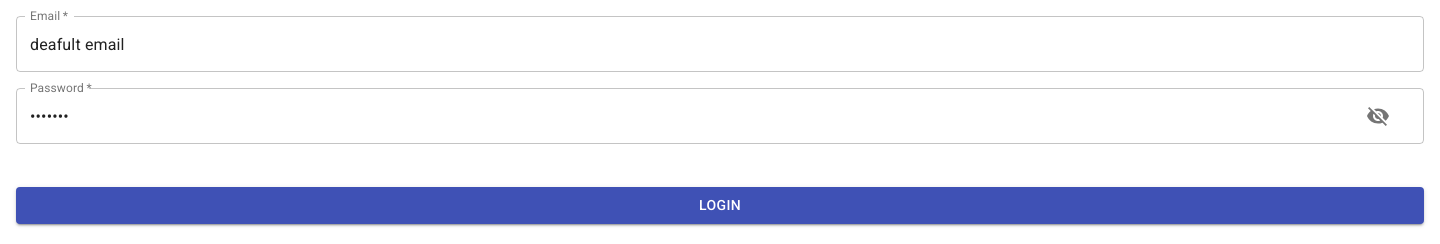
Test: Login  Form › Submit Button should be disabled if Password field is empty
Clear the password field showing "deafult" at (677, 116), box [16, 88, 1338, 144]
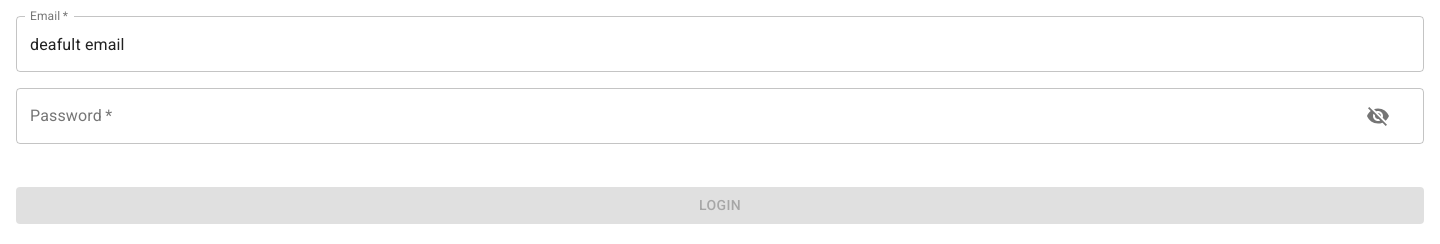
Now the button with test id "submit" is disabled, box [16, 187, 1424, 224]
